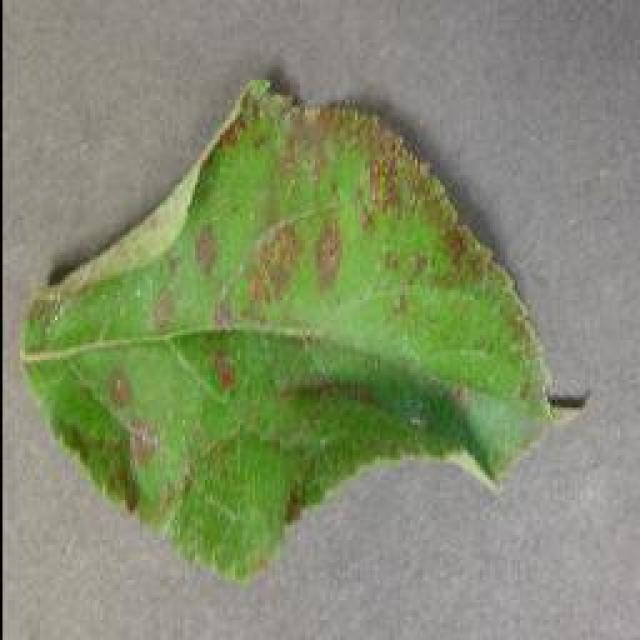apple rust disease: (17, 75, 585, 585)
